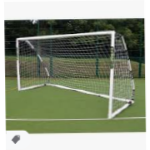goals: (13, 28, 138, 118)
